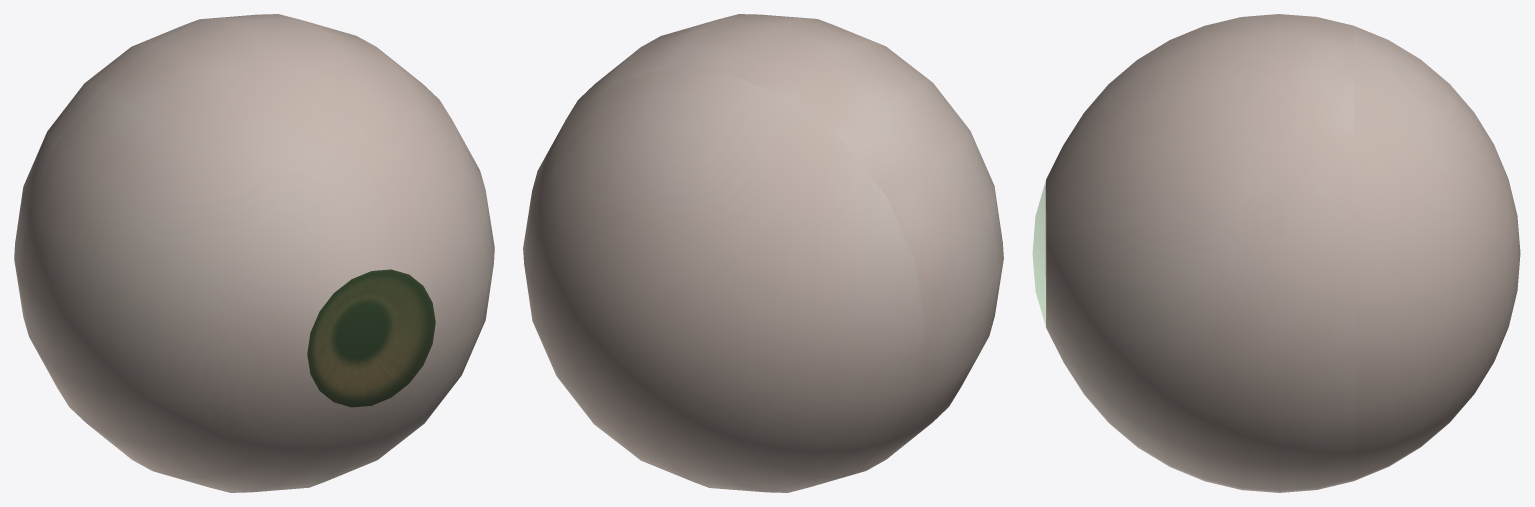
Rendered from free_basic_eyeball_character_asset.glb.
3 renders of one model, left to right at view 1: azimuth 30°, elevation 25°; view 2: azimuth 150°, elevation 25°; view 3: azimuth 270°, elevation 25°, orthographic.
Parts seen in each view (by area): view 1: eyeBallR; view 2: eyeBallR; view 3: eyeBallR.
Boxes of the visible parts, left/top/right/bottom form: eyeBallR: left=14, top=14, right=494, bottom=492; eyeBallR: left=523, top=14, right=1003, bottom=492; eyeBallR: left=1032, top=14, right=1520, bottom=492.
Bounding box in the file's own units: 0.00895 × 0.00895 × 0.00905.
3 materials, 2 textured.
